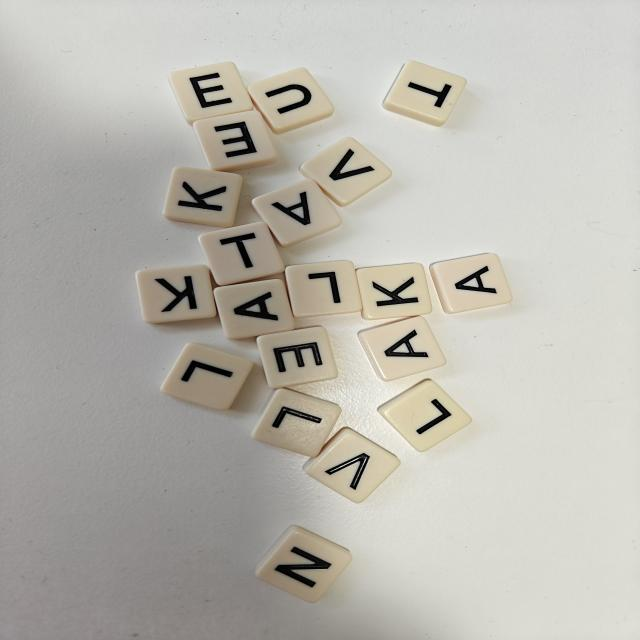a: (252, 179, 341, 247), (359, 316, 446, 381), (430, 253, 512, 314), (213, 279, 295, 339)
e: (168, 62, 253, 124), (193, 110, 277, 171), (257, 326, 338, 389)
k: (163, 167, 242, 228), (136, 264, 216, 323), (356, 263, 432, 320)
l: (379, 380, 472, 452), (161, 343, 253, 410), (252, 388, 341, 457), (285, 260, 362, 317)
n: (256, 525, 352, 602)
t: (383, 61, 466, 126), (199, 222, 284, 285)
u: (247, 68, 334, 134)
v: (303, 428, 400, 503), (300, 137, 392, 206)
